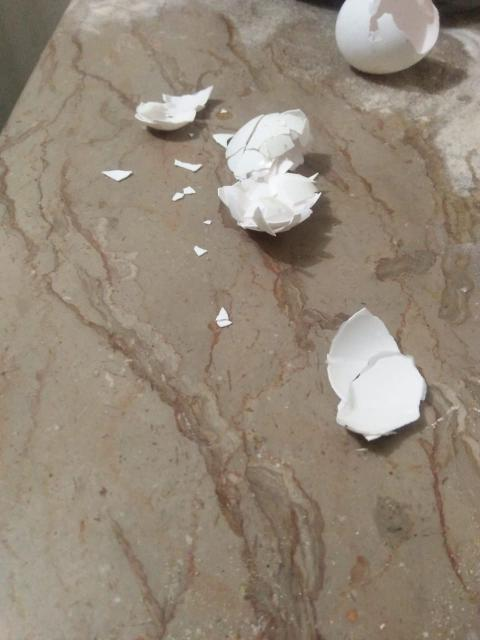Roto: (212, 108, 322, 236), (325, 306, 427, 442), (336, 0, 442, 73), (134, 84, 214, 132)
